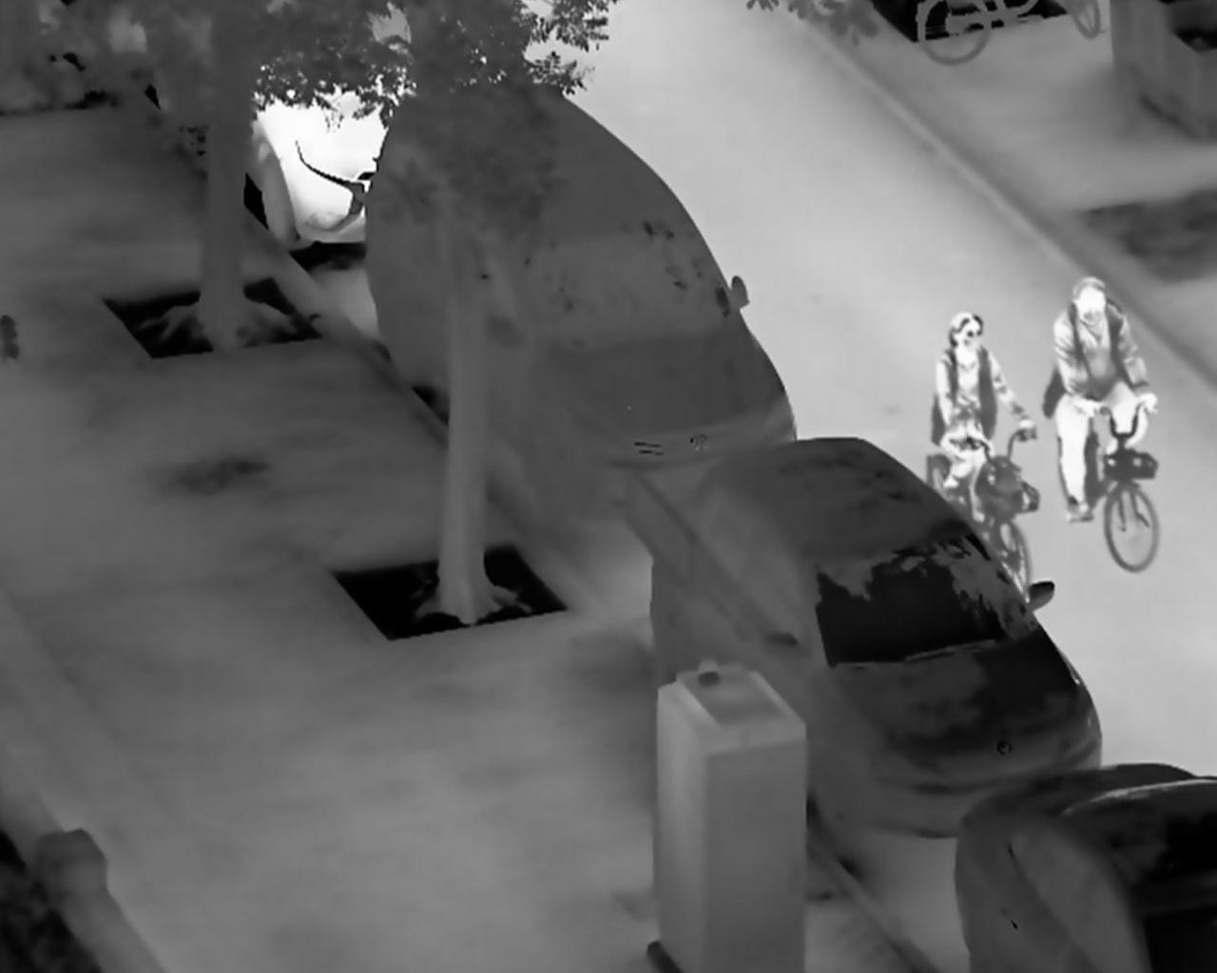person: (1047, 275, 1162, 531), (932, 312, 1040, 506)
